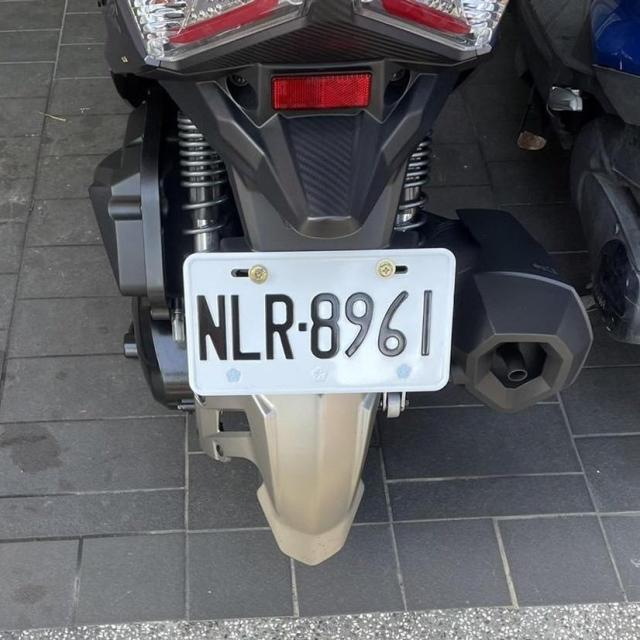W: (180, 244, 456, 397)
